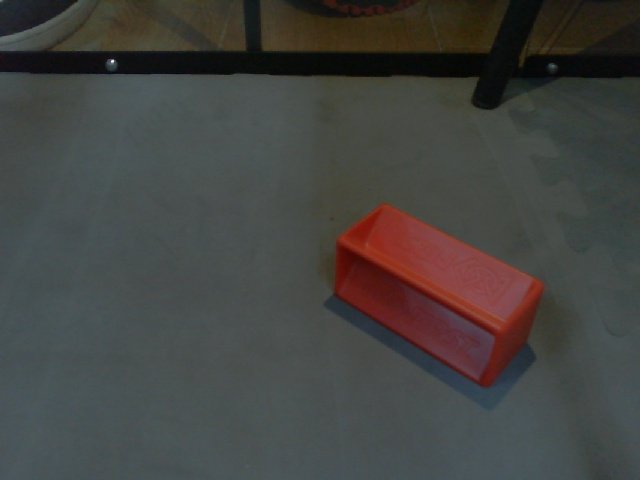RedSample: (332, 200, 545, 389)
